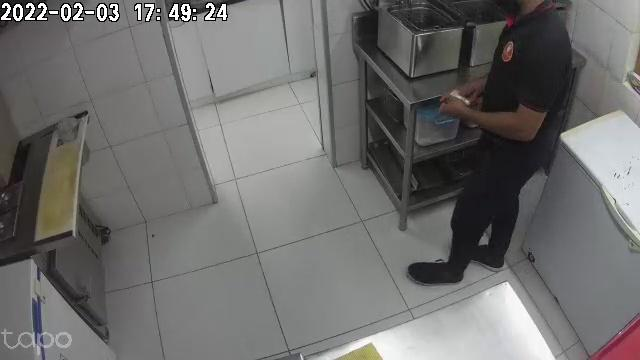no_gloves: (440, 95, 476, 120)
